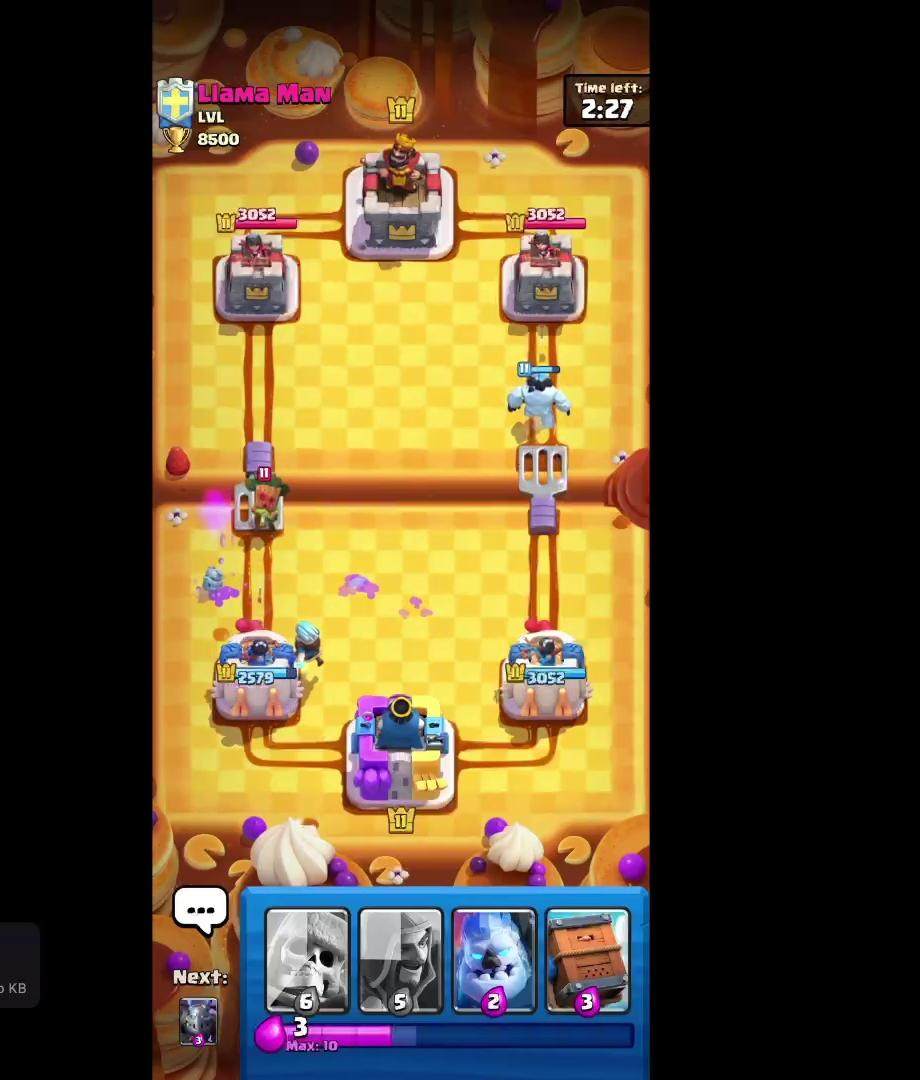Dart Goblin: (238, 459, 302, 538)
